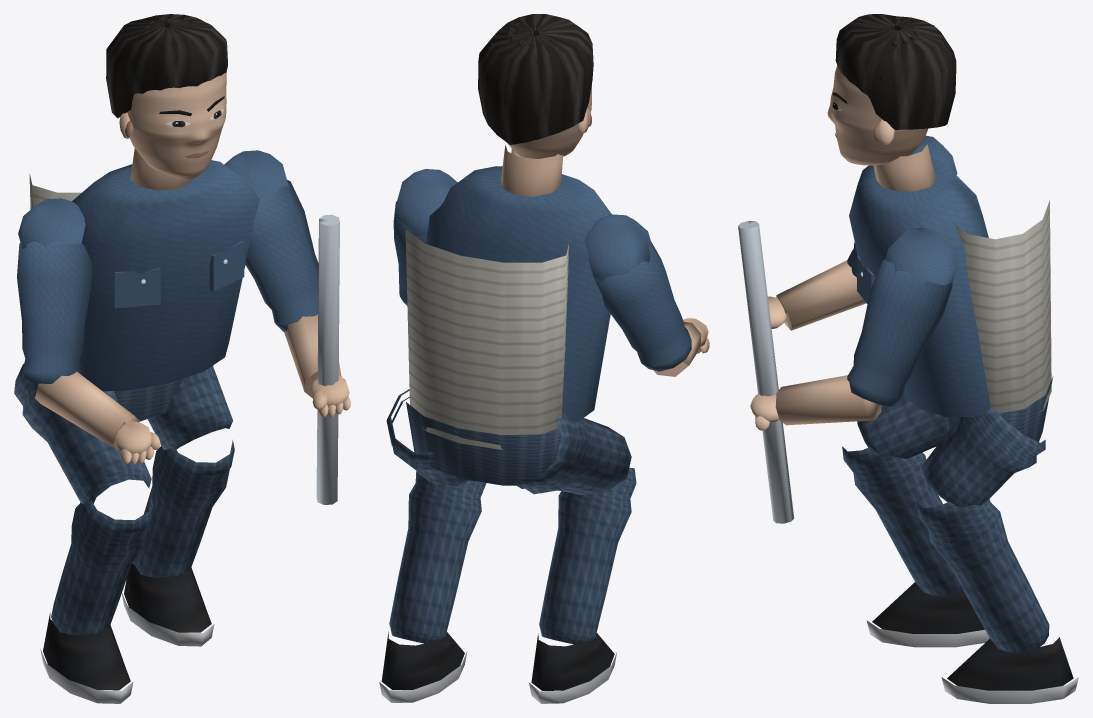
The model's file is HERO-03_kolya-alert.glb.
3 renders of one model, left to right at view 1: azimuth 30°, elevation 25°; view 2: azimuth 150°, elevation 25°; view 3: azimuth 270°, elevation 25°, orthographic. The views are drawn at different scales.
Parts seen in each view (by area): view 1: kolya · soles; view 2: kolya · soles; view 3: kolya · soles.
Part boxes in pixels (<box>): kolya · soles: <box>14,14,350,703</box>; kolya · soles: <box>379,14,709,703</box>; kolya · soles: <box>738,14,1078,703</box>.
Bounding box in the file's own units: 0.6443 × 1.34 × 0.65.
2 materials, 2 textured.
